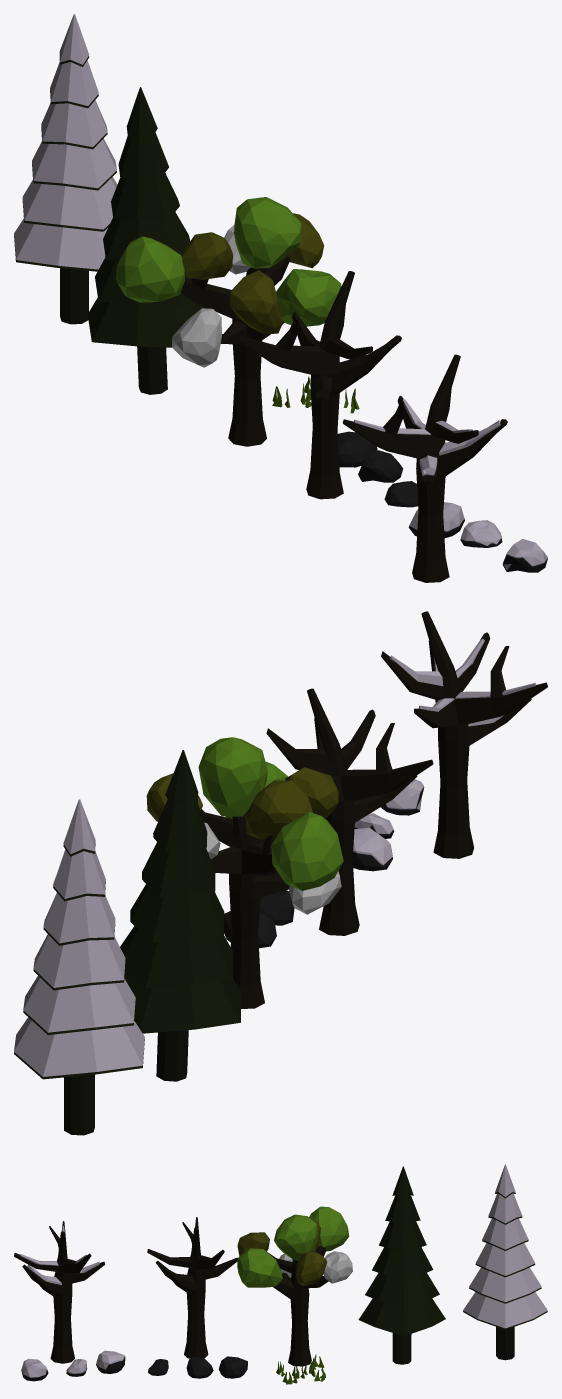
File: BlenderNatureAsset.obj
The picture shows the model from 3 angles, top to bottom: view 1: azimuth 30°, elevation 25°; view 2: azimuth 150°, elevation 25°; view 3: azimuth 270°, elevation 25°; orthographic projection. The views are drawn at different scales.
Visible parts, largest first — view 1: Arbre_Normal_Cylinder.002, SapinHiver_Cylinder.008, SapinHiver.015_Cylinder.034, Arbre_Automne_Cylinder.003, Arbre_Hiver_Cylinder.004, Cylinder.003_Cylinder.005, Caillou3_Icosphere.002, caillou1_Icosphere, CaillouHiver2_Icosphere.007, caillou2_Icosphere.001, CaillouxHiver3_Icosphere.006; view 2: SapinHiver_Cylinder.008, Arbre_Normal_Cylinder.002, SapinHiver.015_Cylinder.034, Arbre_Hiver_Cylinder.004, Arbre_Automne_Cylinder.003, Cylinder.003_Cylinder.005, CaillouHiver1_Icosphere.008, Caillou3_Icosphere.002, caillou1_Icosphere, CaillouxHiver3_Icosphere.006; view 3: Arbre_Normal_Cylinder.002, SapinHiver.015_Cylinder.034, SapinHiver_Cylinder.008, Arbre_Automne_Cylinder.003, Arbre_Hiver_Cylinder.004, caillou1_Icosphere, Cylinder.003_Cylinder.005, Caillou3_Icosphere.002, CaillouxHiver3_Icosphere.006, CaillouHiver1_Icosphere.008, caillou2_Icosphere.001.
Part boxes in pixels (box(x1,y1,x2,y2)): Arbre_Normal_Cylinder.002: box(116, 197, 341, 446); SapinHiver_Cylinder.008: box(14, 14, 117, 324); SapinHiver.015_Cylinder.034: box(87, 87, 207, 394); Arbre_Automne_Cylinder.003: box(237, 271, 401, 499); Arbre_Hiver_Cylinder.004: box(343, 354, 507, 582); Cylinder.003_Cylinder.005: box(353, 399, 500, 476); Caillou3_Icosphere.002: box(358, 450, 403, 482); caillou1_Icosphere: box(337, 431, 377, 467); CaillouHiver2_Icosphere.007: box(461, 520, 501, 545); caillou2_Icosphere.001: box(384, 481, 418, 507); CaillouxHiver3_Icosphere.006: box(503, 539, 547, 570); SapinHiver_Cylinder.008: box(14, 799, 144, 1135); Arbre_Normal_Cylinder.002: box(146, 737, 343, 1008); SapinHiver.015_Cylinder.034: box(120, 750, 240, 1081); Arbre_Hiver_Cylinder.004: box(381, 611, 547, 858); Arbre_Automne_Cylinder.003: box(266, 688, 433, 935); Cylinder.003_Cylinder.005: box(389, 639, 536, 726); CaillouHiver1_Icosphere.008: box(353, 827, 392, 865); Caillou3_Icosphere.002: box(259, 890, 294, 925); caillou1_Icosphere: box(224, 911, 276, 948); CaillouxHiver3_Icosphere.006: box(385, 779, 423, 810); Arbre_Normal_Cylinder.002: box(237, 1206, 352, 1366); SapinHiver.015_Cylinder.034: box(358, 1166, 445, 1364); SapinHiver_Cylinder.008: box(463, 1164, 547, 1360); Arbre_Automne_Cylinder.003: box(147, 1217, 237, 1358); Arbre_Hiver_Cylinder.004: box(14, 1221, 104, 1363); caillou1_Icosphere: box(218, 1356, 247, 1378); Cylinder.003_Cylinder.005: box(20, 1226, 99, 1285); Caillou3_Icosphere.002: box(186, 1357, 213, 1378); CaillouxHiver3_Icosphere.006: box(21, 1358, 47, 1377); CaillouHiver1_Icosphere.008: box(96, 1350, 124, 1369); caillou2_Icosphere.001: box(148, 1359, 168, 1375).
Size of the model in its own units: 3.59 by 5.18 by 12.67.
